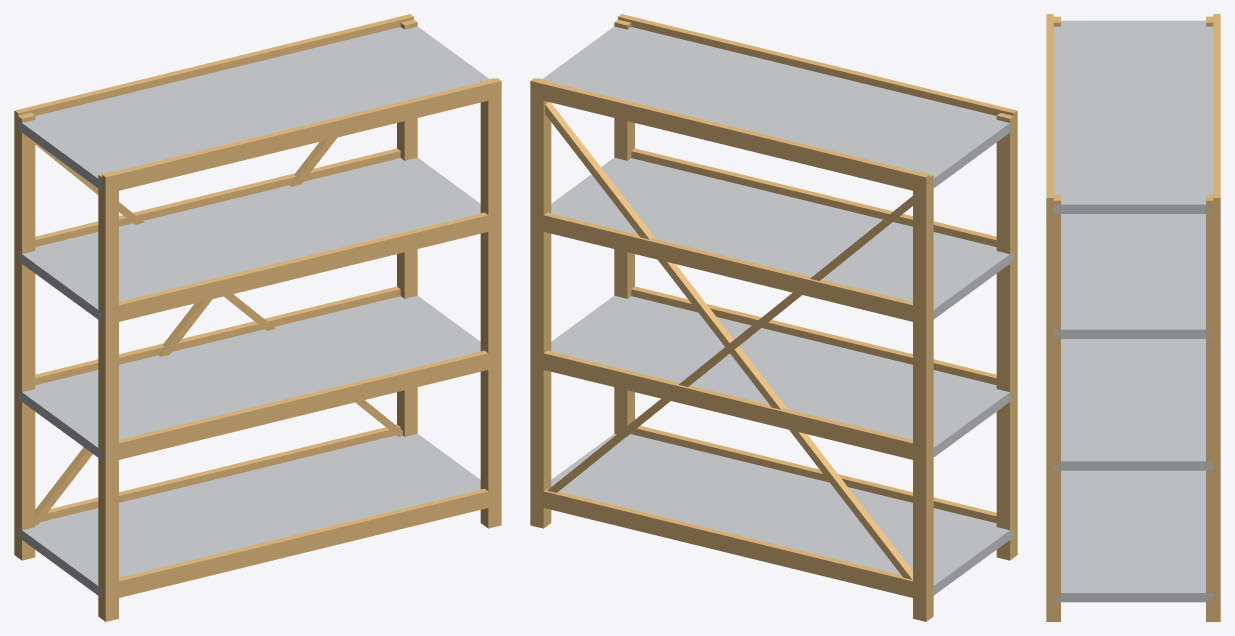
3 views of the same model, side by side, from view 1: azimuth 30°, elevation 25°; view 2: azimuth 150°, elevation 25°; view 3: azimuth 270°, elevation 25° (orthographic). The views are drawn at different scales.
Visible parts, largest first — view 1: 层板_3, 层板_0, 层板_2, 层板_1, 立柱_-15_5, 立柱_14_-6, 前梁_3, 立柱_-15_-6, 前梁_1, 前梁_0, 前梁_2, 后梁_3 (+6 smaller); view 2: 层板_3, 层板_2, 层板_1, 层板_0, 立柱_-15_5, 立柱_-15_-6, 后梁_3, 立柱_14_5, 后梁_2, 后梁_0, 后梁_1, 斜撑_1 (+6 smaller); view 3: 层板_3, 层板_0, 层板_1, 层板_2, 立柱_14_5, 立柱_14_-6, 前梁_3, 后梁_3.
Boxes of the visible parts, x1,y1,x2,y2 form: 层板_3: [18, 26, 489, 190]; 层板_0: [18, 433, 480, 597]; 层板_2: [18, 157, 480, 321]; 层板_1: [18, 295, 480, 459]; 立柱_-15_5: [14, 113, 35, 560]; 立柱_14_-6: [480, 78, 501, 528]; 前梁_3: [102, 78, 501, 193]; 立柱_-15_-6: [98, 171, 118, 621]; 前梁_1: [102, 350, 501, 462]; 前梁_0: [102, 488, 501, 600]; 前梁_2: [102, 212, 497, 324]; 后梁_3: [14, 14, 413, 129]; 层板_3: [542, 26, 1011, 190]; 层板_2: [551, 157, 1013, 319]; 层板_1: [551, 295, 1012, 458]; 层板_0: [551, 433, 1013, 595]; 立柱_-15_5: [913, 171, 933, 621]; 立柱_-15_-6: [996, 113, 1017, 560]; 后梁_3: [530, 78, 929, 193]; 立柱_14_5: [530, 78, 551, 528]; 后梁_2: [530, 212, 928, 324]; 后梁_0: [530, 488, 927, 600]; 后梁_1: [530, 350, 929, 462]; 斜撑_1: [545, 102, 912, 579]; 层板_3: [1053, 20, 1213, 213]; 层板_0: [1053, 470, 1213, 602]; 层板_1: [1053, 339, 1213, 470]; 层板_2: [1053, 214, 1213, 338]; 立柱_14_5: [1206, 194, 1220, 621]; 立柱_14_-6: [1046, 194, 1060, 621]; 前梁_3: [1046, 14, 1053, 213]; 后梁_3: [1213, 14, 1220, 213].
Size of the model in its own units: 300 by 322 by 120.
